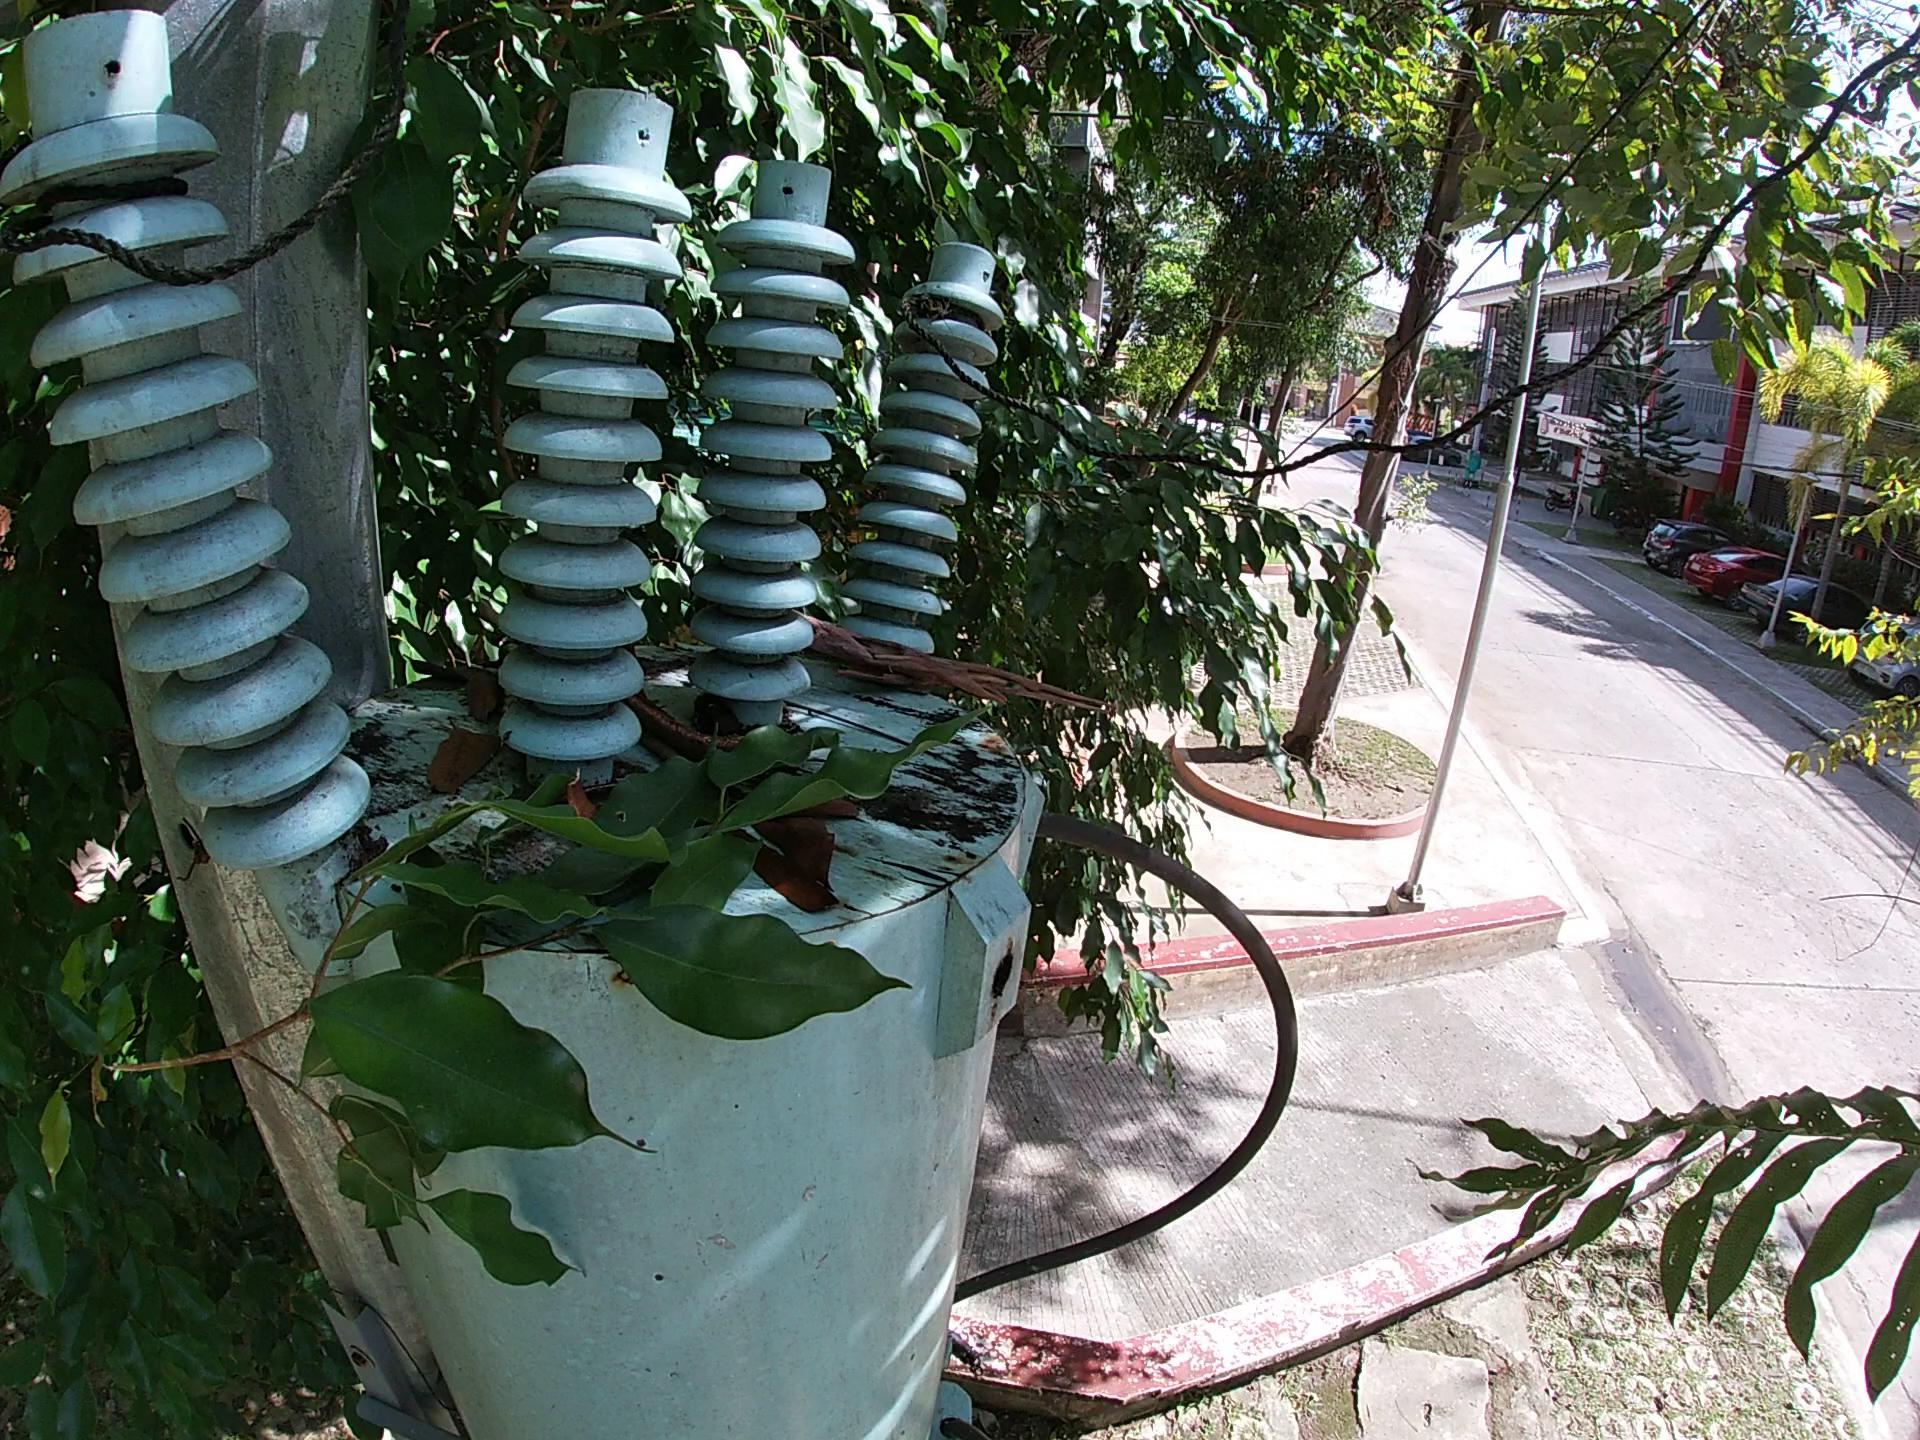branch with leaves: (95, 697, 1002, 1295)
leaf: (729, 824, 850, 912), (425, 718, 506, 809), (754, 812, 845, 892), (452, 659, 508, 722), (794, 799, 869, 827)
mahogany fruit: (633, 685, 748, 756), (561, 768, 605, 826)
tree branch: (795, 610, 1111, 729)
